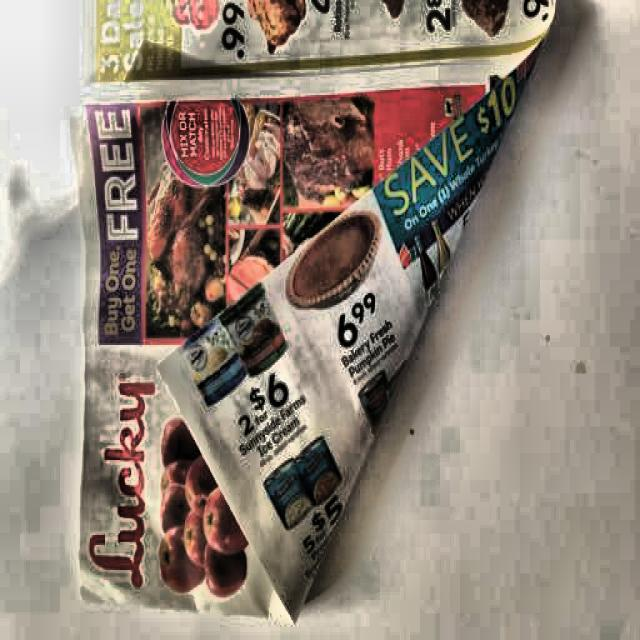paper: (69, 1, 560, 640)
